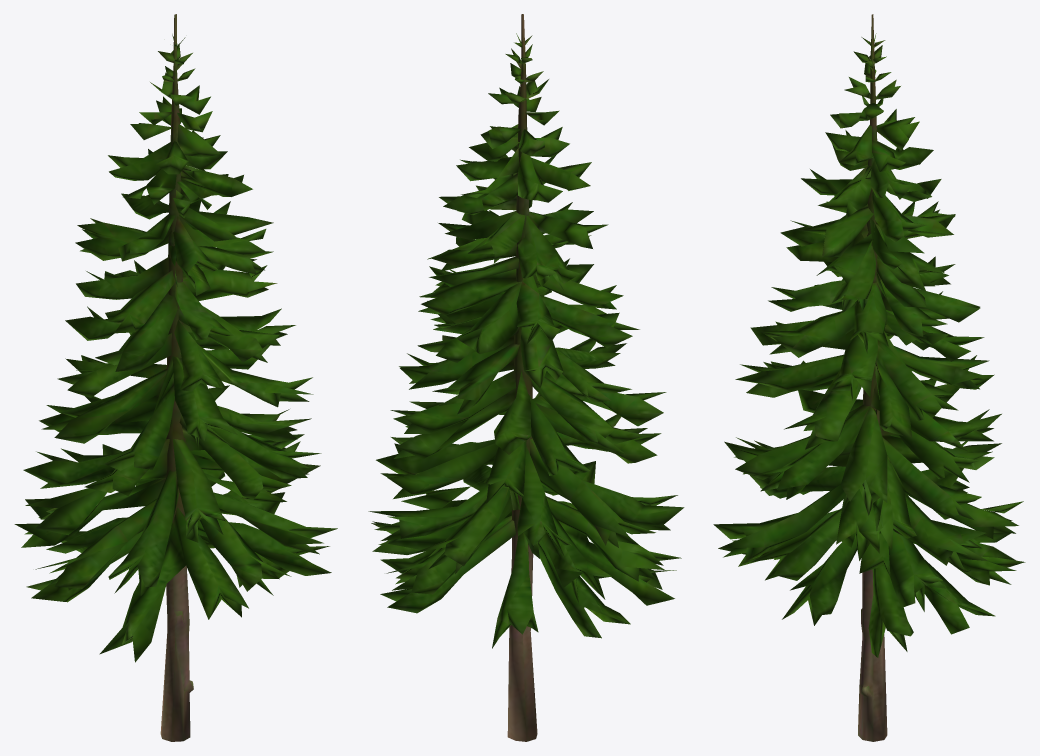
File: fir.glb
3 views of the same model, side by side, from view 1: azimuth 30°, elevation 25°; view 2: azimuth 150°, elevation 25°; view 3: azimuth 270°, elevation 25° (orthographic).
Visible parts, largest first — view 1: tripo_node_e7a6bf8b-fbd8-473b-b0bf-bbae199c9f23; view 2: tripo_node_e7a6bf8b-fbd8-473b-b0bf-bbae199c9f23; view 3: tripo_node_e7a6bf8b-fbd8-473b-b0bf-bbae199c9f23.
Boxes of the visible parts, box(x1,y1,x2,y2) form: tripo_node_e7a6bf8b-fbd8-473b-b0bf-bbae199c9f23: box(14, 14, 337, 741); tripo_node_e7a6bf8b-fbd8-473b-b0bf-bbae199c9f23: box(368, 14, 684, 741); tripo_node_e7a6bf8b-fbd8-473b-b0bf-bbae199c9f23: box(713, 14, 1025, 741).
Size of the model in its own units: 0.3965 by 0.998 by 0.3926.
Materials: 1 (1 with a texture image).
